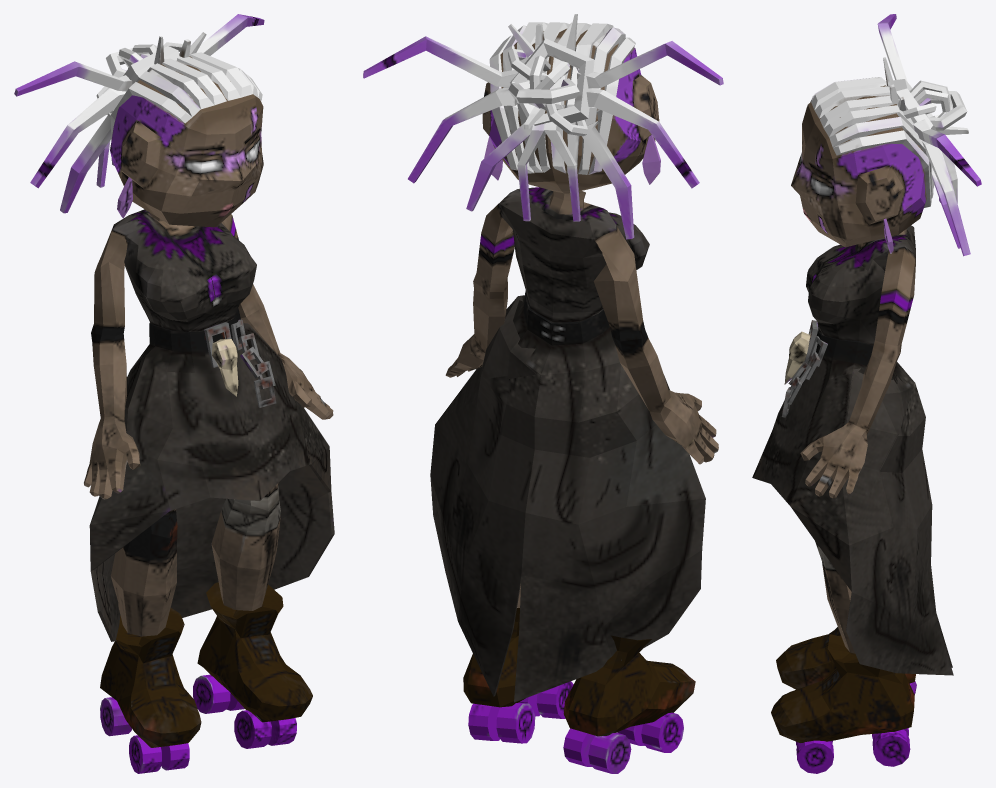
Rendered from bruja_000066.obj.
3 views of the same model, side by side, from view 1: azimuth 30°, elevation 25°; view 2: azimuth 150°, elevation 25°; view 3: azimuth 270°, elevation 25° (orthographic). The views are drawn at different scales.
Visible parts, largest first — view 1: Bruja_Plane.001; view 2: Bruja_Plane.001; view 3: Bruja_Plane.001.
Part boxes in pixels (bbox=[...]): Bruja_Plane.001: bbox=[14, 14, 334, 773]; Bruja_Plane.001: bbox=[363, 14, 723, 773]; Bruja_Plane.001: bbox=[752, 14, 981, 773].
Size of the model in its own units: 7.26 by 16.5 by 5.09.
